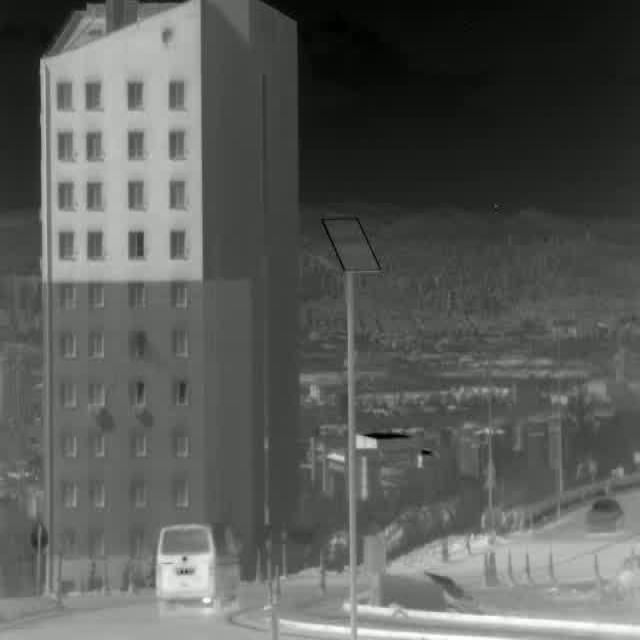Car: (156, 522, 242, 617), (584, 497, 625, 535)
